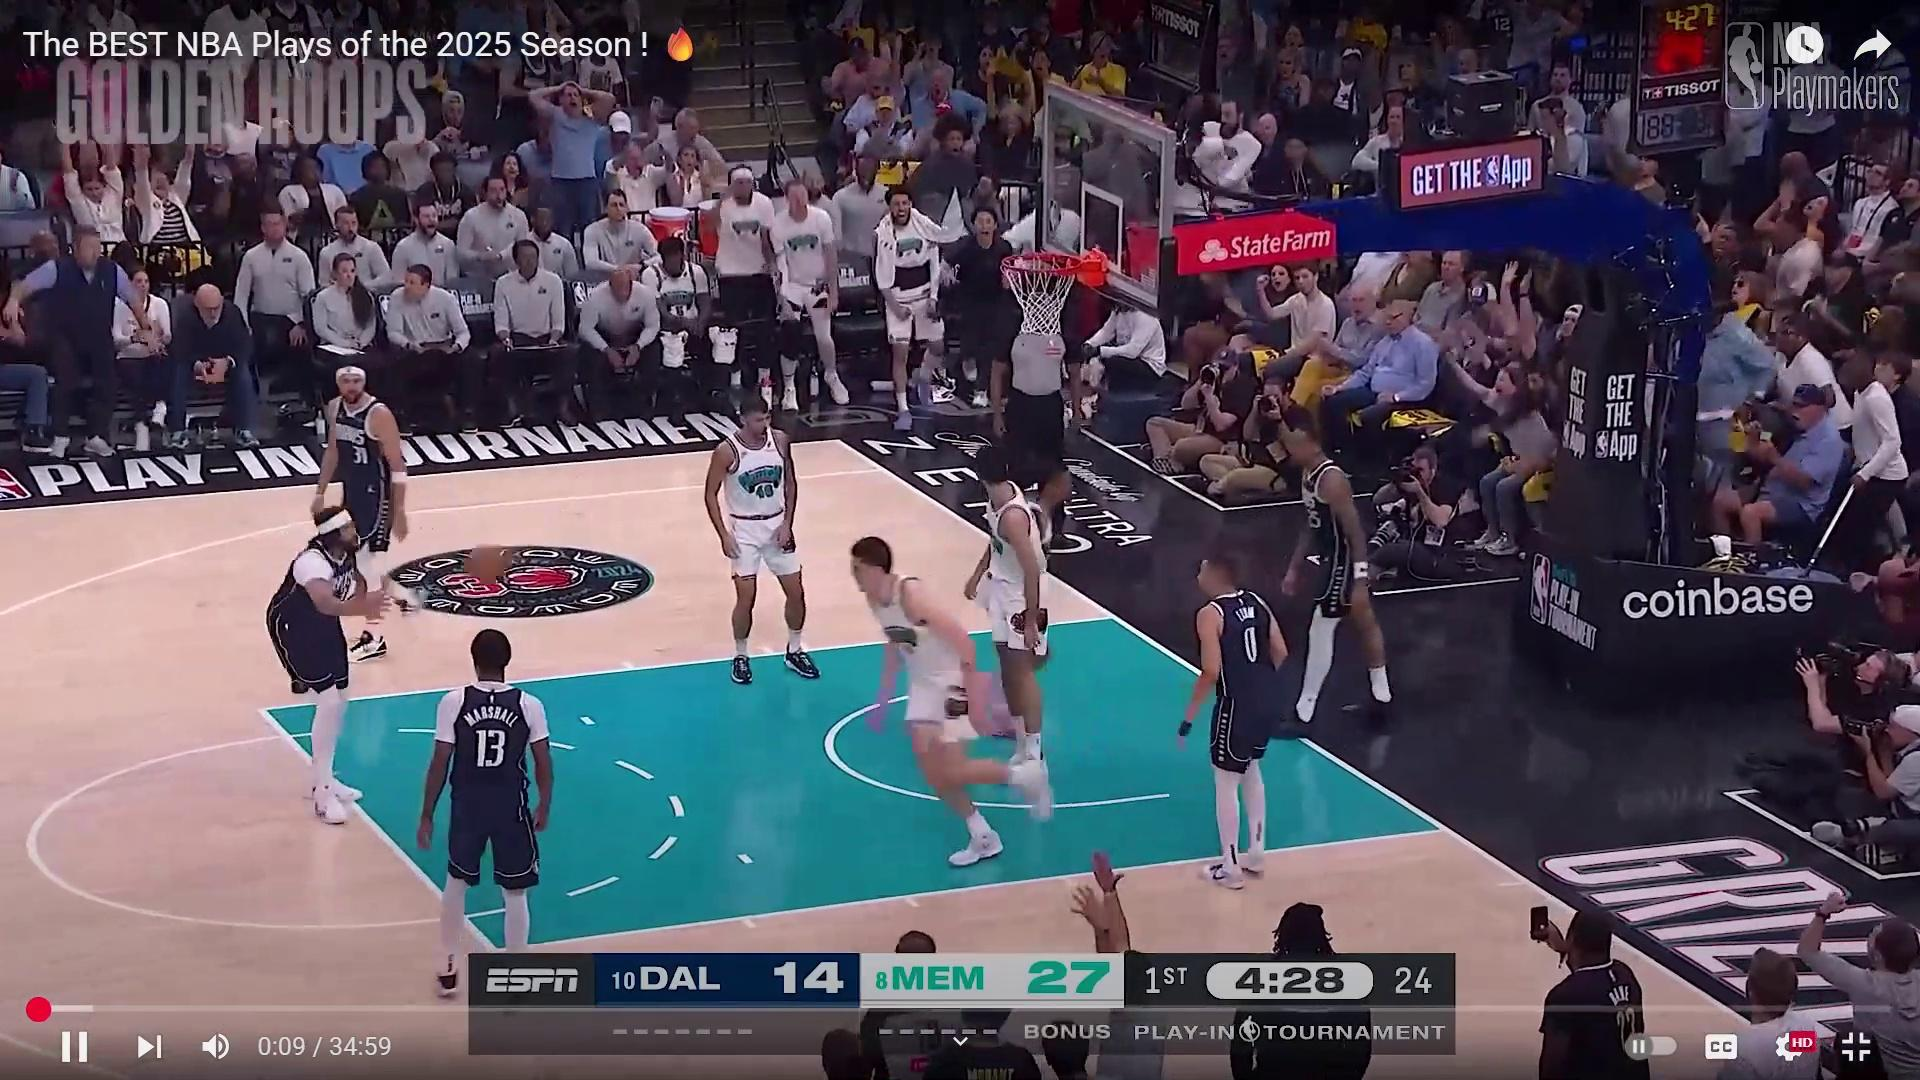ball: (458, 534, 506, 584)
hoop: (992, 236, 1081, 343)
